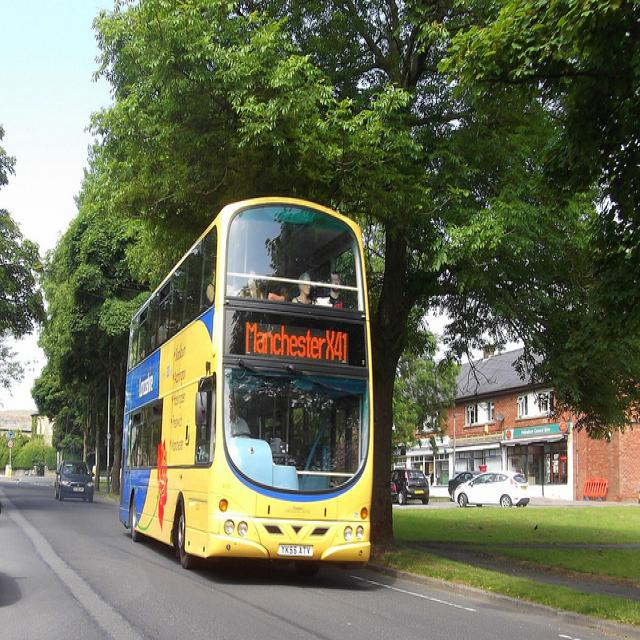Vehicle: (118, 198, 377, 576), (452, 472, 531, 508), (53, 461, 95, 502), (391, 468, 430, 504), (448, 471, 482, 497)
